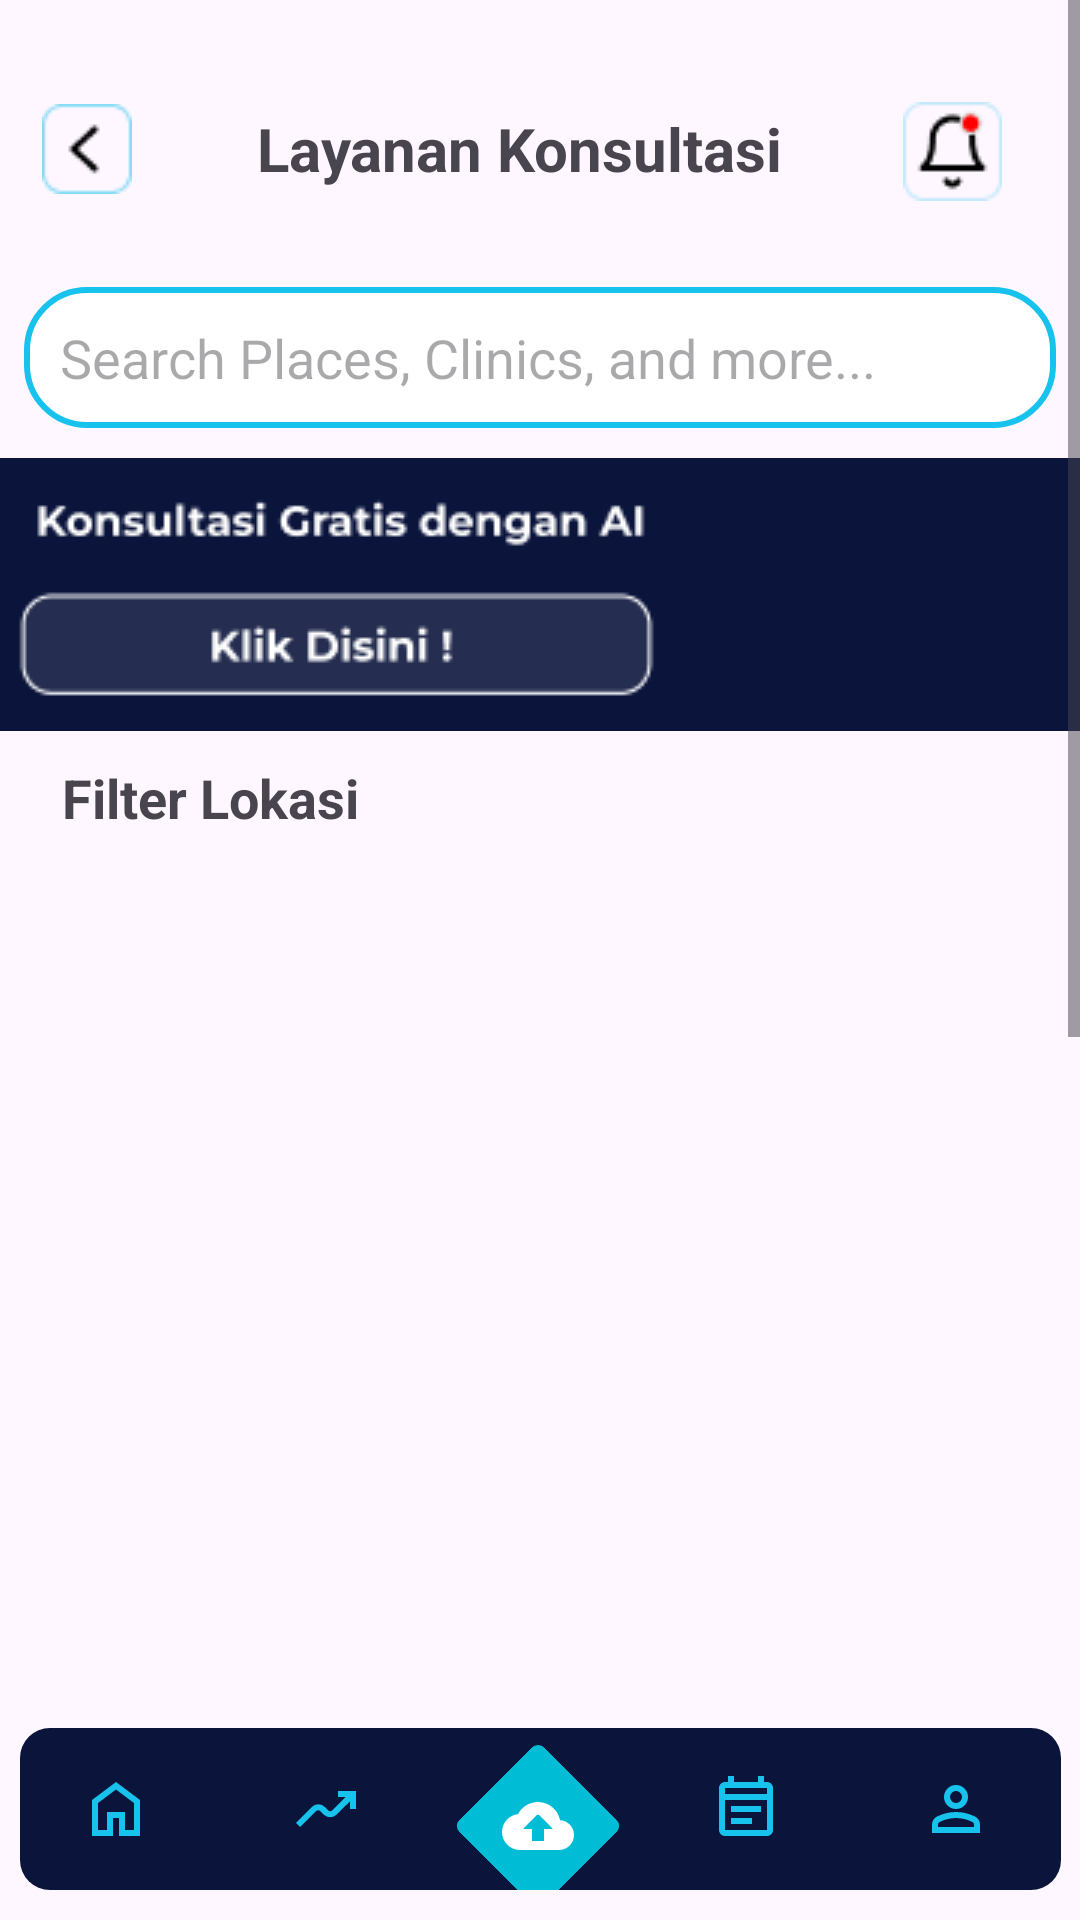

Icon bounding boxes for this 1080px x 1920px phone screenshot, format [x1, y1, x2, y2]:
Button untuk kembali: [42, 104, 132, 194]
Button untuk melihat notif: [903, 102, 1002, 201]
cloud upload: [502, 1802, 574, 1850]
event note: [719, 1776, 773, 1836]
home: [92, 1782, 140, 1836]
moving: [296, 1791, 356, 1827]
person: [932, 1785, 980, 1833]
